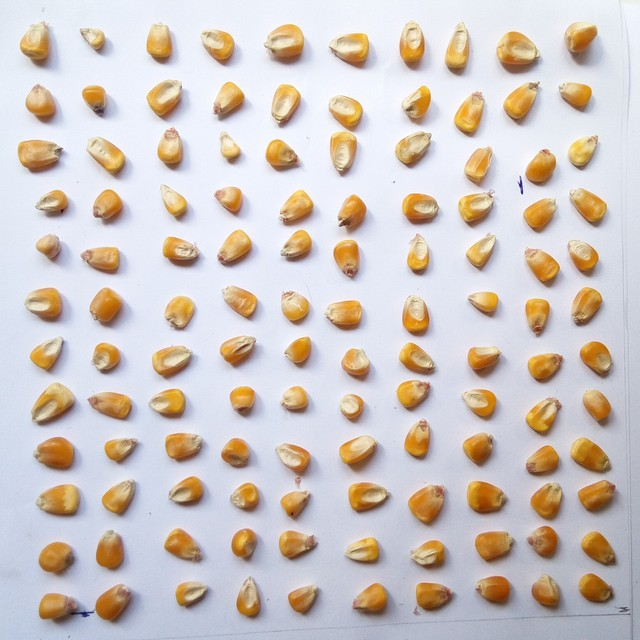maiz: (29, 382, 77, 427), (29, 432, 82, 471), (472, 525, 520, 567), (565, 186, 611, 229), (519, 244, 564, 287), (213, 329, 258, 372), (263, 19, 309, 61), (411, 578, 458, 619), (328, 29, 377, 68), (82, 135, 131, 174), (343, 480, 396, 516), (495, 28, 538, 72), (409, 482, 451, 527), (17, 136, 68, 173), (453, 88, 491, 137), (220, 282, 264, 324), (93, 580, 134, 625), (505, 78, 545, 124), (322, 131, 362, 177), (348, 580, 395, 619), (196, 25, 240, 66), (393, 127, 434, 171), (164, 525, 208, 565), (151, 342, 197, 380), (574, 478, 621, 515), (34, 481, 82, 517), (214, 227, 255, 269), (524, 393, 564, 436), (464, 228, 503, 272), (460, 426, 498, 471), (394, 341, 442, 376), (85, 388, 133, 423), (145, 74, 184, 117), (28, 336, 71, 375), (456, 190, 500, 228), (573, 434, 617, 472), (466, 478, 510, 516), (267, 80, 303, 126), (454, 385, 500, 421), (154, 180, 195, 220), (23, 283, 64, 323), (327, 91, 369, 130), (578, 530, 620, 569), (85, 284, 123, 327), (571, 284, 609, 327), (162, 428, 208, 463), (524, 347, 565, 386), (211, 79, 248, 122), (34, 539, 78, 575), (557, 76, 598, 114), (223, 384, 261, 425), (473, 573, 515, 610), (326, 297, 369, 333), (530, 480, 566, 523), (330, 239, 368, 279), (98, 477, 138, 515), (234, 575, 267, 621), (520, 297, 557, 338), (400, 191, 442, 227), (401, 418, 437, 460), (277, 186, 315, 225), (521, 195, 560, 233), (333, 192, 370, 232), (567, 237, 604, 277), (172, 575, 212, 612), (576, 572, 617, 608), (401, 232, 433, 278), (276, 528, 319, 562), (445, 19, 472, 73), (396, 17, 425, 67), (277, 225, 314, 264), (169, 473, 208, 510), (526, 521, 563, 560), (275, 438, 315, 474), (161, 292, 196, 333), (463, 340, 504, 375), (398, 294, 432, 336), (147, 388, 189, 422), (336, 433, 379, 466), (562, 20, 600, 57), (566, 133, 603, 171), (284, 582, 322, 619), (88, 339, 124, 378), (24, 80, 59, 120), (100, 434, 142, 467), (96, 528, 128, 571), (581, 388, 618, 425), (276, 288, 312, 326), (155, 125, 186, 169), (462, 145, 496, 185), (401, 82, 431, 127), (78, 243, 124, 272), (157, 232, 200, 263), (281, 332, 317, 369), (261, 136, 299, 171), (522, 147, 557, 185), (524, 444, 562, 479), (580, 340, 615, 377), (531, 573, 564, 612), (391, 380, 431, 412), (342, 536, 382, 568), (407, 536, 445, 569), (142, 21, 174, 60), (34, 591, 74, 622), (20, 19, 50, 60), (218, 436, 253, 471), (229, 525, 261, 563), (214, 128, 247, 164), (340, 343, 372, 380), (280, 488, 316, 520), (465, 287, 503, 317), (88, 188, 123, 220), (336, 391, 369, 423), (212, 184, 247, 214), (77, 23, 110, 54), (229, 481, 262, 512), (80, 82, 110, 116), (37, 186, 68, 218), (279, 383, 309, 416), (33, 230, 62, 263)
